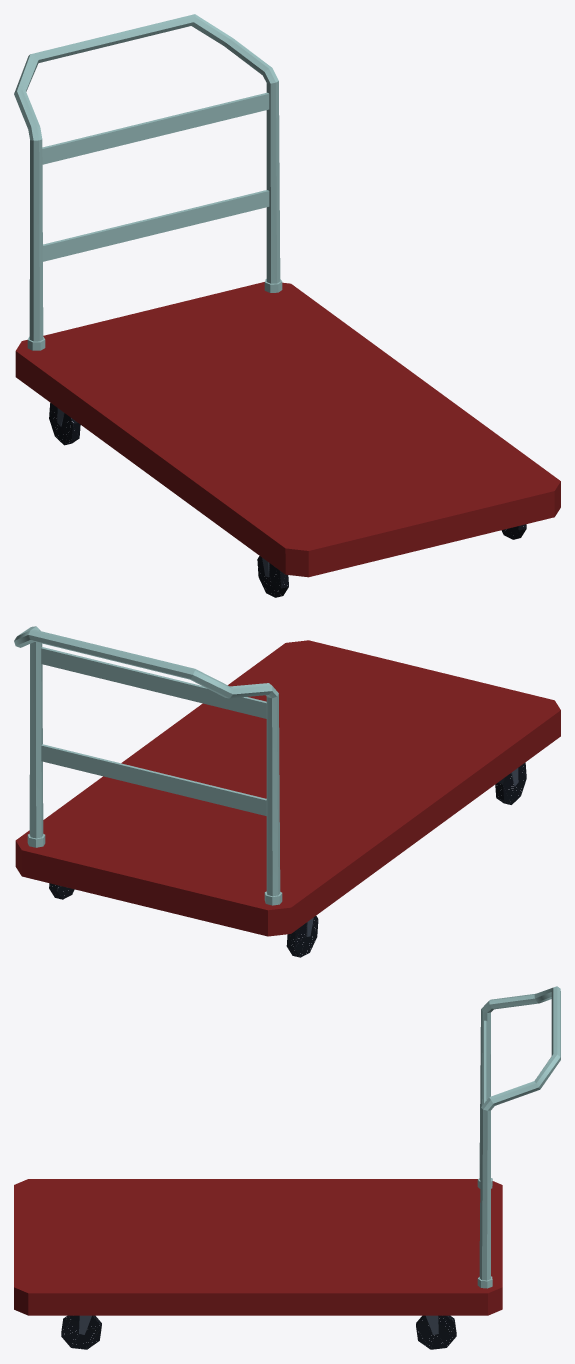
Rendered from Prop_Platform_Car.fbx.
The picture shows the model from 3 angles, top to bottom: view 1: azimuth 30°, elevation 25°; view 2: azimuth 150°, elevation 25°; view 3: azimuth 270°, elevation 25°; orthographic projection. The views are drawn at different scales.
Visible parts, largest first — view 1: Prop_Platform_Car; view 2: Prop_Platform_Car; view 3: Prop_Platform_Car.
Boxes of the visible parts, x1,y1,x2,y2 form: Prop_Platform_Car: (14,14,560,597); Prop_Platform_Car: (14,626,560,957); Prop_Platform_Car: (14,986,560,1349).
Bounding box in the file's own units: 185 × 91.64 × 104.
